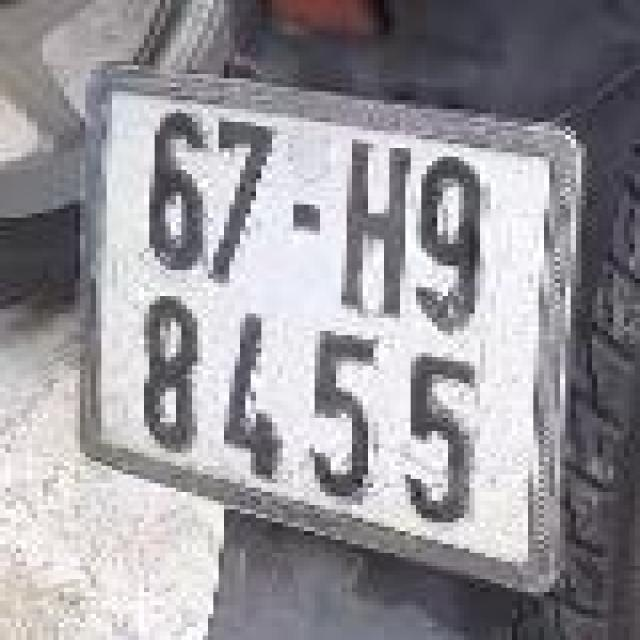4: (219, 307, 288, 485)
5: (397, 346, 483, 529), (298, 322, 378, 505)
6: (142, 100, 206, 283)
7: (208, 111, 277, 294)
8: (136, 285, 205, 459)
9: (416, 146, 485, 337)
H: (339, 133, 413, 320)
